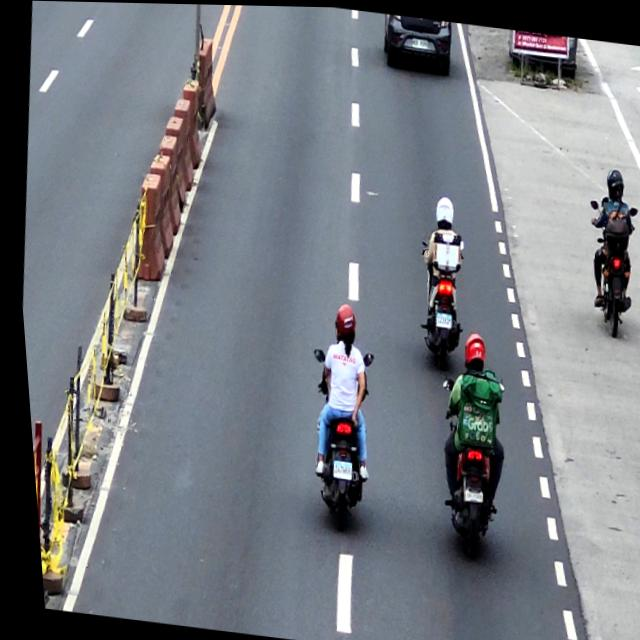Car: (378, 12, 455, 74)
License-Plate: (324, 458, 346, 479), (455, 483, 476, 501), (430, 310, 447, 326), (410, 35, 428, 48)
Motorcycle: (288, 340, 380, 535), (417, 371, 508, 560), (573, 191, 640, 337), (405, 236, 469, 370)
